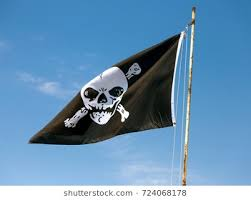Jolly Roger Flag: (27, 33, 187, 147)
